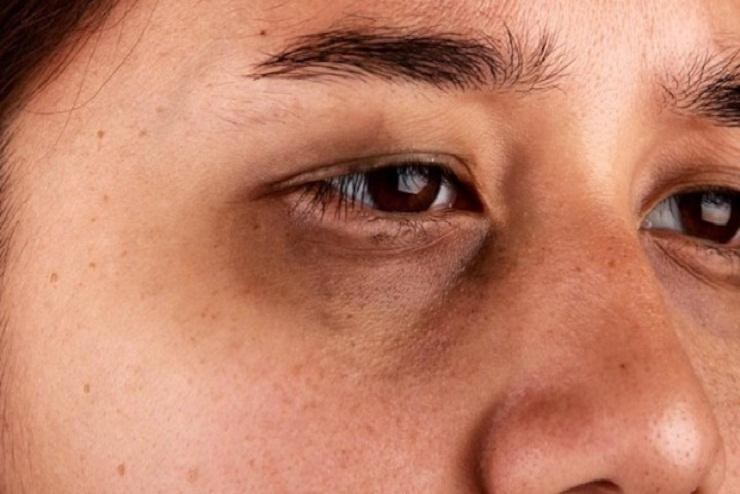Eyebags: (212, 131, 514, 351), (639, 218, 740, 296)
